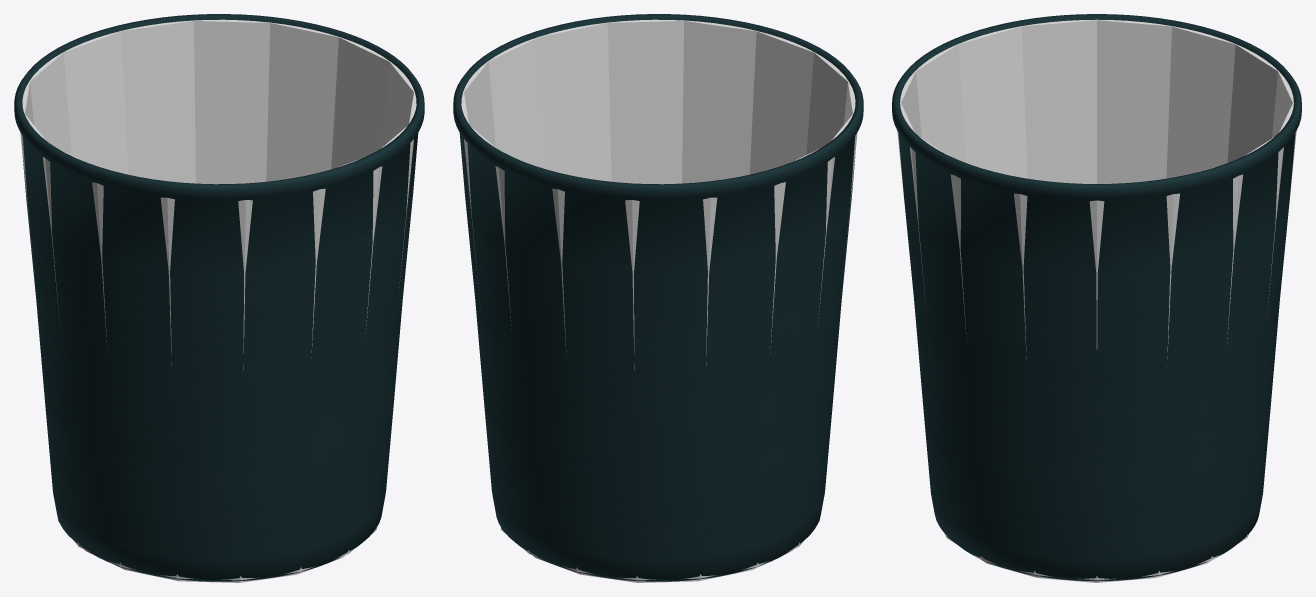
The model's file is WaterBucket.fbx.
3 renders of one model, left to right at view 1: azimuth 30°, elevation 25°; view 2: azimuth 150°, elevation 25°; view 3: azimuth 270°, elevation 25°, orthographic.
Visible parts, largest first — view 1: WaterBucket, COL_WaterBucket_Wall_02_03, COL_WaterBucket_Wall_02_04, COL_WaterBucket_Wall_02_02, COL_WaterBucket_Wall_02_05, COL_WaterBucket_Wall_02_01, COL_WaterBucket_Wall_02_06, COL_WaterBucket_Wall_02_16, COL_WaterBucket_Wall_02_11, COL_WaterBucket_Wall_02_12, COL_WaterBucket_Wall_02_10, COL_WaterBucket_Wall_02_13 (+1 smaller); view 2: WaterBucket, COL_WaterBucket_Wall_02_14, COL_WaterBucket_Wall_02_13, COL_WaterBucket_Wall_02_15, COL_WaterBucket_Wall_02_12, COL_WaterBucket_Wall_02_16, COL_WaterBucket_Wall_02_11, COL_WaterBucket_Wall_02_01, COL_WaterBucket_Wall_02_06, COL_WaterBucket_Wall_02_05, COL_WaterBucket_Wall_02_07, COL_WaterBucket_Wall_02_04 (+1 smaller); view 3: WaterBucket, COL_WaterBucket_Wall_02_08, COL_WaterBucket_Wall_02_09, COL_WaterBucket_Wall_02_07, COL_WaterBucket_Wall_02_10, COL_WaterBucket_Wall_02_06, COL_WaterBucket_Wall_02_11, COL_WaterBucket_Wall_02_16, COL_WaterBucket_Wall_02_01, COL_WaterBucket_Wall_02_05, COL_WaterBucket_Wall_02_12, COL_WaterBucket_Wall_02_02 (+3 smaller).
Part boxes in pixels (x1=…): WaterBucket: x1=14, y1=14, x2=424, y2=581; COL_WaterBucket_Wall_02_03: x1=194, y1=19, x2=270, y2=184; COL_WaterBucket_Wall_02_04: x1=121, y1=20, x2=195, y2=183; COL_WaterBucket_Wall_02_02: x1=266, y1=22, x2=338, y2=181; COL_WaterBucket_Wall_02_05: x1=63, y1=31, x2=128, y2=174; COL_WaterBucket_Wall_02_01: x1=331, y1=37, x2=389, y2=169; COL_WaterBucket_Wall_02_06: x1=29, y1=52, x2=71, y2=154; COL_WaterBucket_Wall_02_16: x1=382, y1=61, x2=414, y2=146; COL_WaterBucket_Wall_02_11: x1=167, y1=197, x2=245, y2=368; COL_WaterBucket_Wall_02_12: x1=243, y1=189, x2=319, y2=370; COL_WaterBucket_Wall_02_10: x1=97, y1=183, x2=171, y2=365; COL_WaterBucket_Wall_02_13: x1=311, y1=159, x2=379, y2=352; WaterBucket: x1=453, y1=14, x2=863, y2=581; COL_WaterBucket_Wall_02_14: x1=607, y1=19, x2=683, y2=184; COL_WaterBucket_Wall_02_13: x1=682, y1=20, x2=756, y2=183; COL_WaterBucket_Wall_02_15: x1=539, y1=22, x2=611, y2=181; COL_WaterBucket_Wall_02_12: x1=749, y1=31, x2=814, y2=174; COL_WaterBucket_Wall_02_16: x1=488, y1=37, x2=546, y2=169; COL_WaterBucket_Wall_02_11: x1=806, y1=52, x2=848, y2=154; COL_WaterBucket_Wall_02_01: x1=463, y1=61, x2=495, y2=146; COL_WaterBucket_Wall_02_06: x1=632, y1=197, x2=710, y2=368; COL_WaterBucket_Wall_02_05: x1=558, y1=189, x2=634, y2=370; COL_WaterBucket_Wall_02_07: x1=706, y1=183, x2=780, y2=365; COL_WaterBucket_Wall_02_04: x1=498, y1=159, x2=566, y2=352; WaterBucket: x1=892, y1=14, x2=1301, y2=581; COL_WaterBucket_Wall_02_08: x1=1097, y1=19, x2=1171, y2=183; COL_WaterBucket_Wall_02_09: x1=1022, y1=19, x2=1096, y2=183; COL_WaterBucket_Wall_02_07: x1=1166, y1=26, x2=1235, y2=178; COL_WaterBucket_Wall_02_10: x1=958, y1=26, x2=1027, y2=178; COL_WaterBucket_Wall_02_06: x1=1227, y1=44, x2=1278, y2=162; COL_WaterBucket_Wall_02_11: x1=915, y1=44, x2=966, y2=162; COL_WaterBucket_Wall_02_16: x1=1020, y1=194, x2=1096, y2=357; COL_WaterBucket_Wall_02_01: x1=1097, y1=194, x2=1173, y2=357; COL_WaterBucket_Wall_02_05: x1=1272, y1=71, x2=1293, y2=138; COL_WaterBucket_Wall_02_12: x1=900, y1=71, x2=921, y2=138; COL_WaterBucket_Wall_02_02: x1=1167, y1=167, x2=1239, y2=359.
Size of the model in its own units: 0.32 by 0.36 by 0.32.
1 material, 1 textured.
